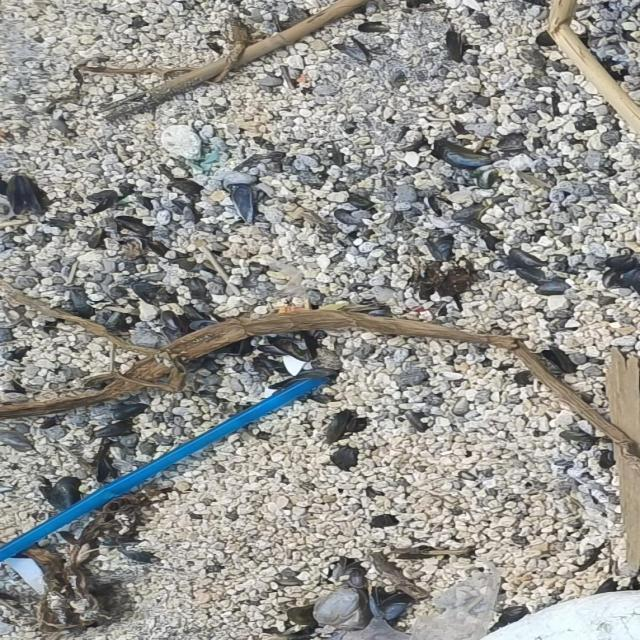plastic_waste: (1, 375, 337, 564)
